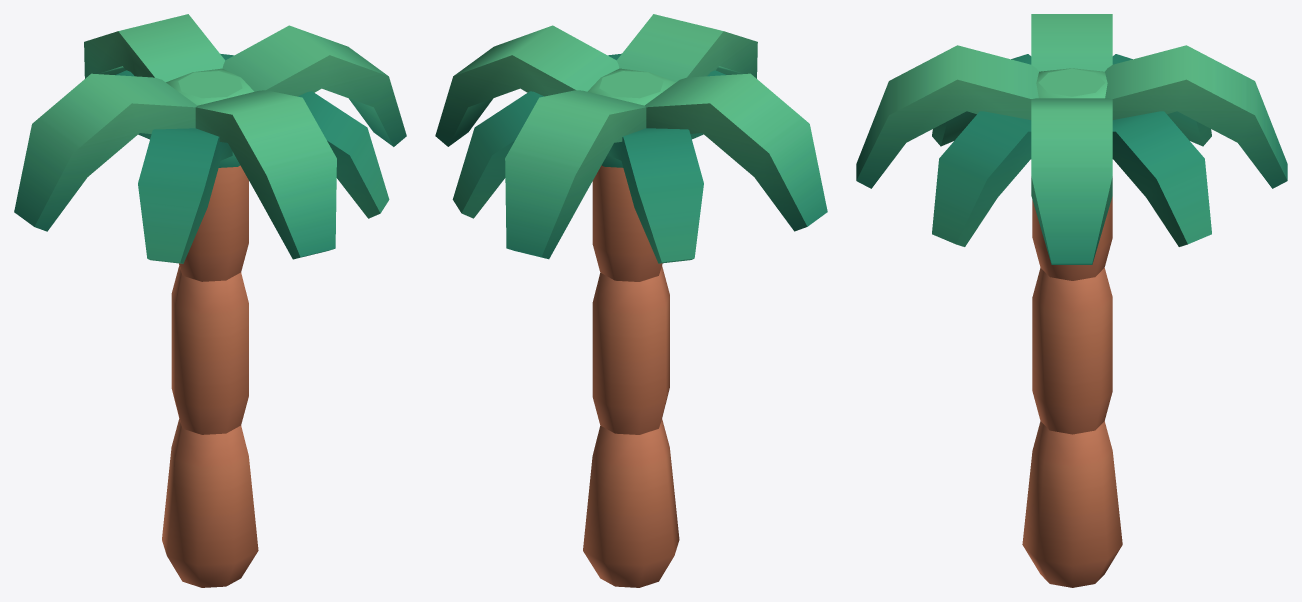
Rendered from kenney-pirate-kit-palm-detailed-straight.glb.
3 renders of one model, left to right at view 1: azimuth 30°, elevation 25°; view 2: azimuth 150°, elevation 25°; view 3: azimuth 270°, elevation 25°, orthographic.
Visible parts, largest first — view 1: palm-detailed-straight; view 2: palm-detailed-straight; view 3: palm-detailed-straight.
Part boxes in pixels (x1,y1,x2,y2): palm-detailed-straight: (14,14,406,587); palm-detailed-straight: (435,14,827,587); palm-detailed-straight: (856,14,1287,587).
Bounding box in the file's own units: 3.82 × 5 × 3.82.
1 material, 1 textured.
